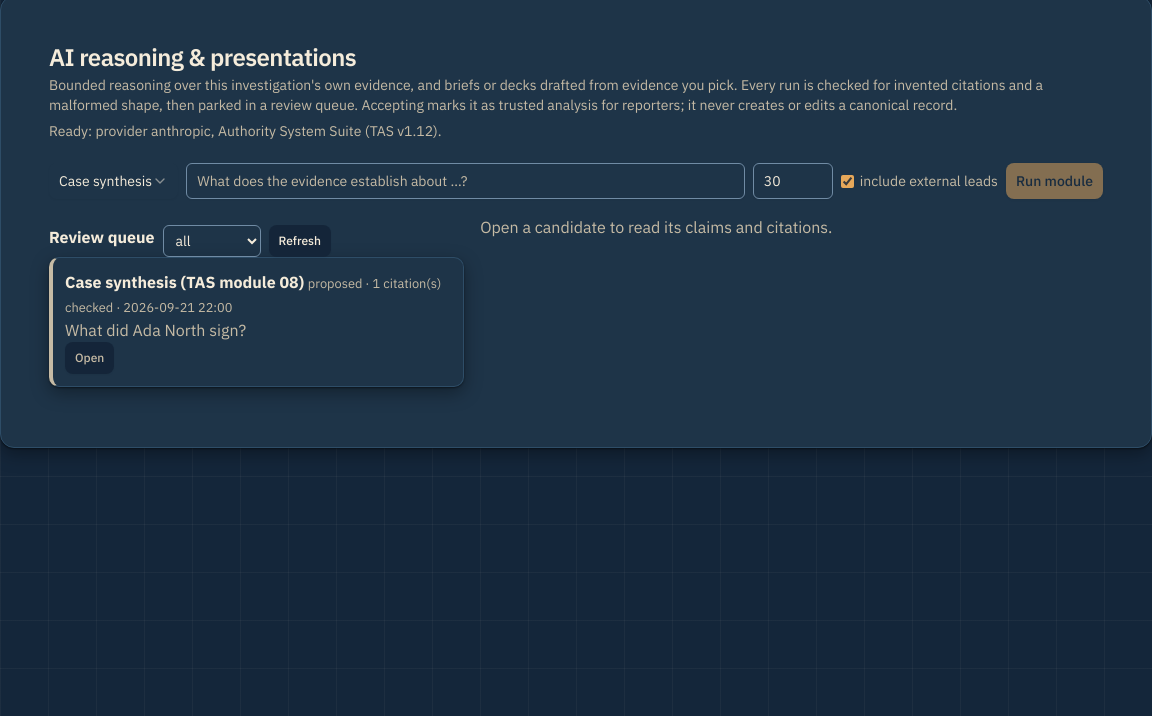
AiReasoningPanel › sends case synthesis to Before you run instead of running it, and opens a queued candidate with its citations and records an accept
This screenshot has width=1152, height=716.
Expected: the text "What did Ada North sign?" is shown, [65,320,246,340]
Expected: the button "Run module" is disabled, [1006,163,1103,199]
In the field named "Question": (466, 181) [186,163,745,199], type "What did Ada North sign?"
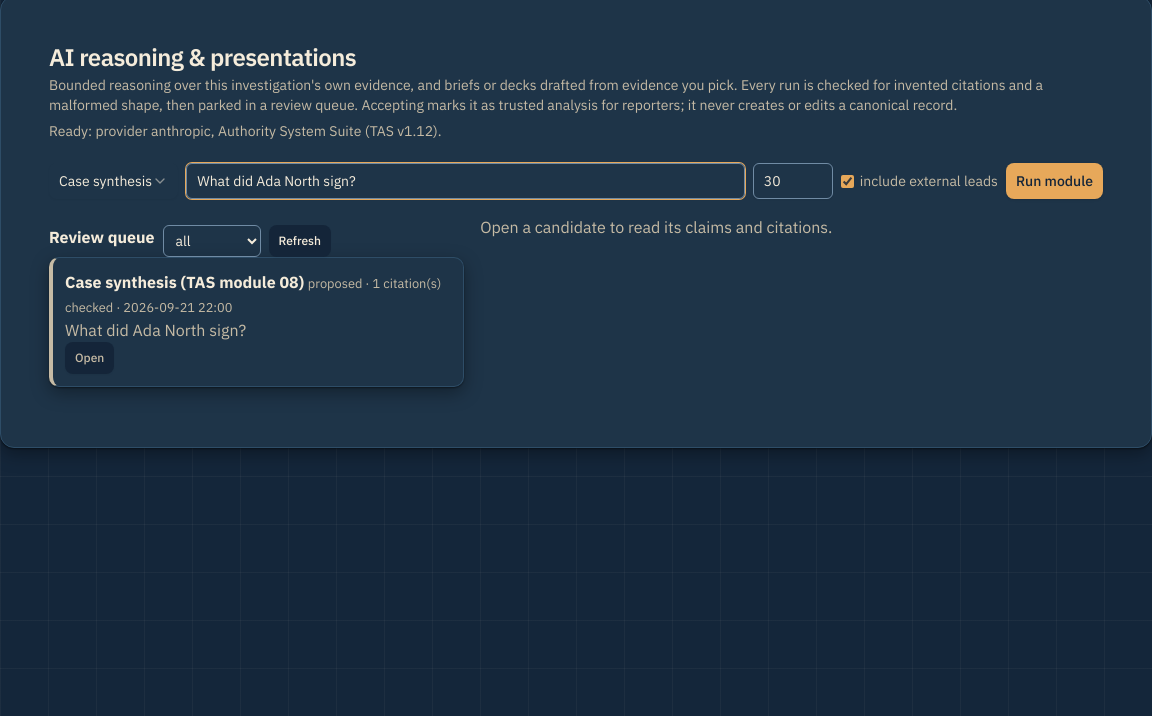
Click the button "Run module": (1054, 181) [1006,163,1103,199]
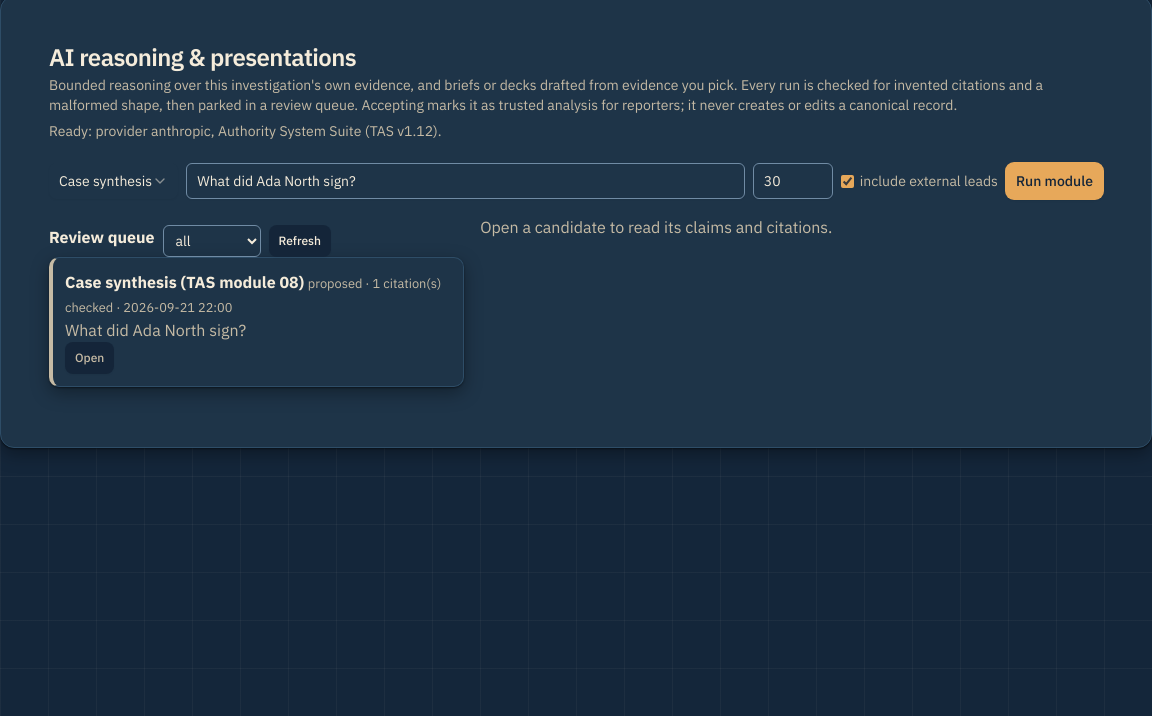
Click the button "Open": (90, 358) [65,342,114,374]
(page scrolled)
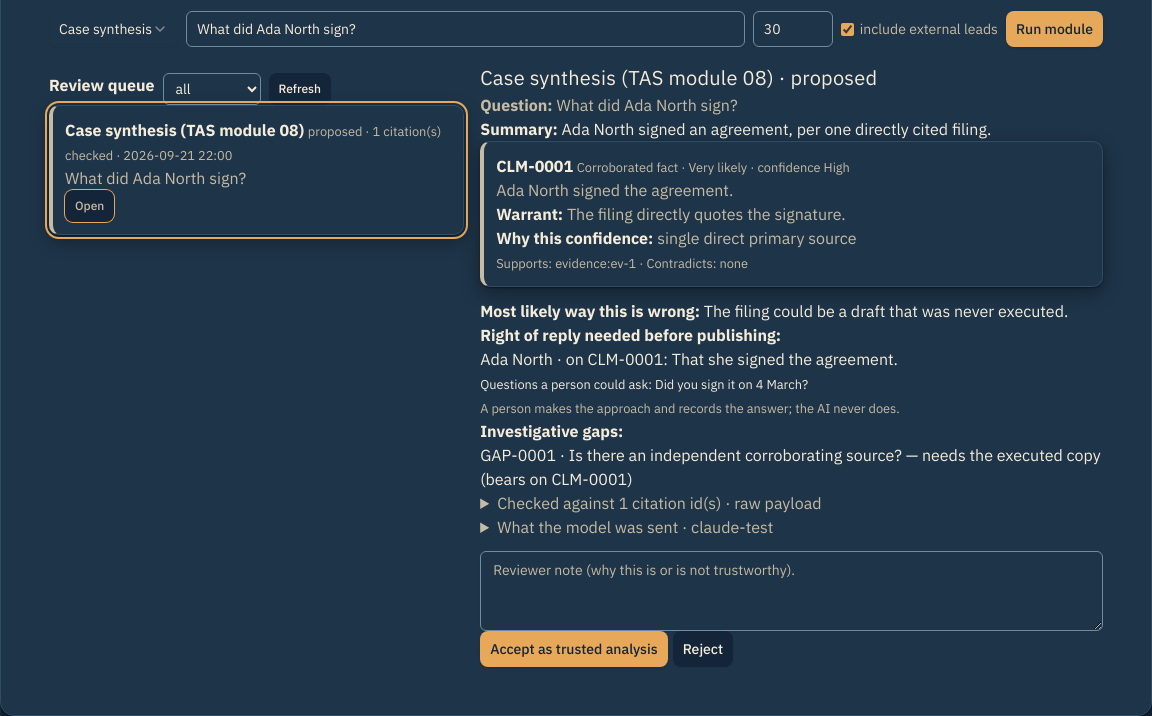
Now the text "CLM-0001" is shown, box [496,156,573,176]
Now the text "Supports: evidence:ev-1 · Contradicts: none" is shown, box [496,255,748,272]
Now the list item "GAP-0001 · Is there an independent corroborating source? — needs the executed copy (bears on CLM-0001)" is shown, box [480,445,1101,489]
In the text box labelled "Reviewer note": (792, 591) [480,551,1103,631], type "Looks right."
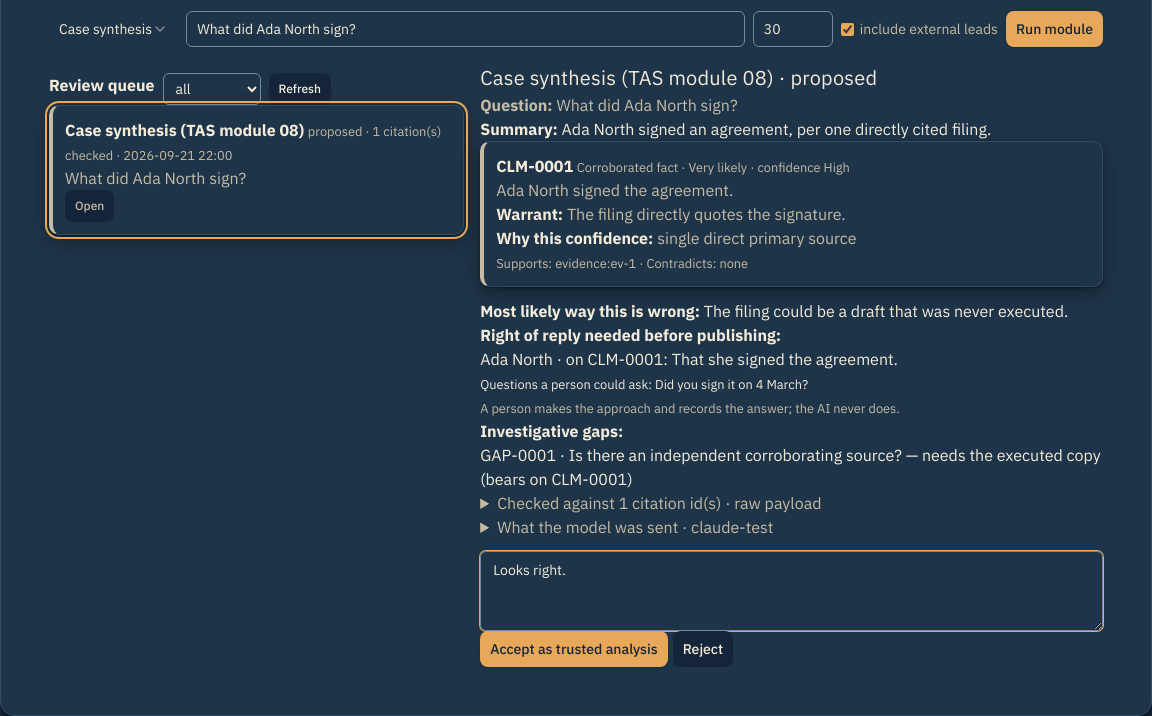
Click the button "Accept as trusted analysis": (574, 649) [480,631,668,667]
(page scrolled)
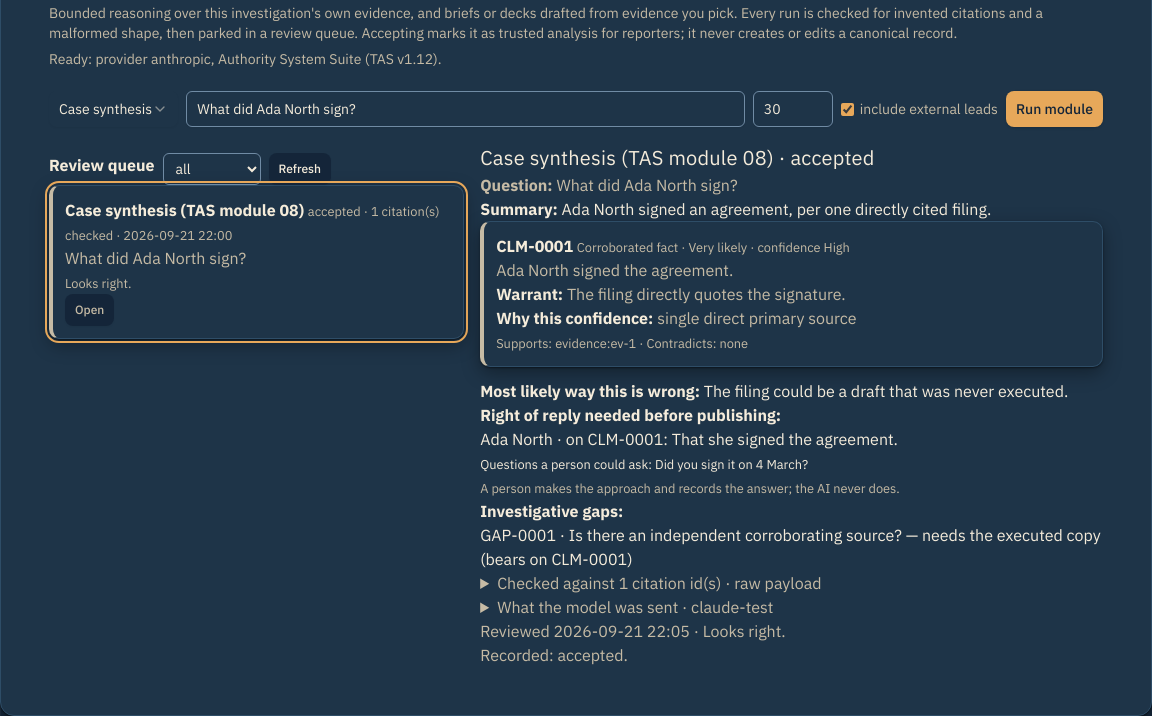
Now the text with test id "ai-review-status" reads "Recorded: accepted.", box [480,645,628,665]
Now the button "Accept as trusted analysis" is gone
